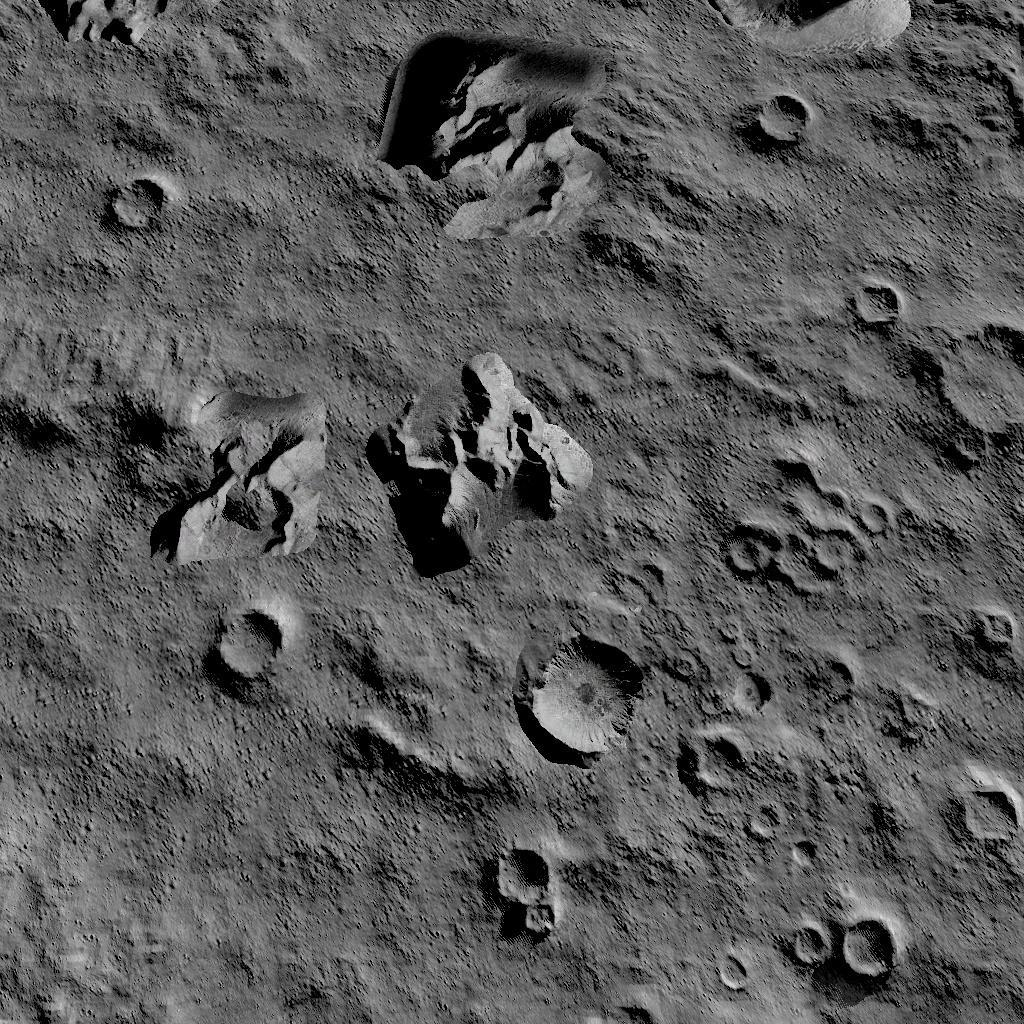Boulders: (381, 28, 708, 282), (0, 322, 328, 560), (366, 355, 593, 573), (881, 0, 1024, 170), (8, 0, 283, 68)
Crater: (721, 452, 893, 600), (933, 318, 1024, 470), (526, 635, 640, 755), (778, 912, 906, 986), (494, 840, 566, 943), (206, 600, 286, 685), (951, 780, 1024, 863), (686, 730, 753, 793), (746, 90, 815, 150), (106, 172, 170, 236), (848, 280, 902, 333)
Plan surface: (0, 572, 196, 1024), (210, 810, 480, 1024), (191, 135, 368, 308), (723, 182, 1024, 268), (0, 82, 93, 308)
